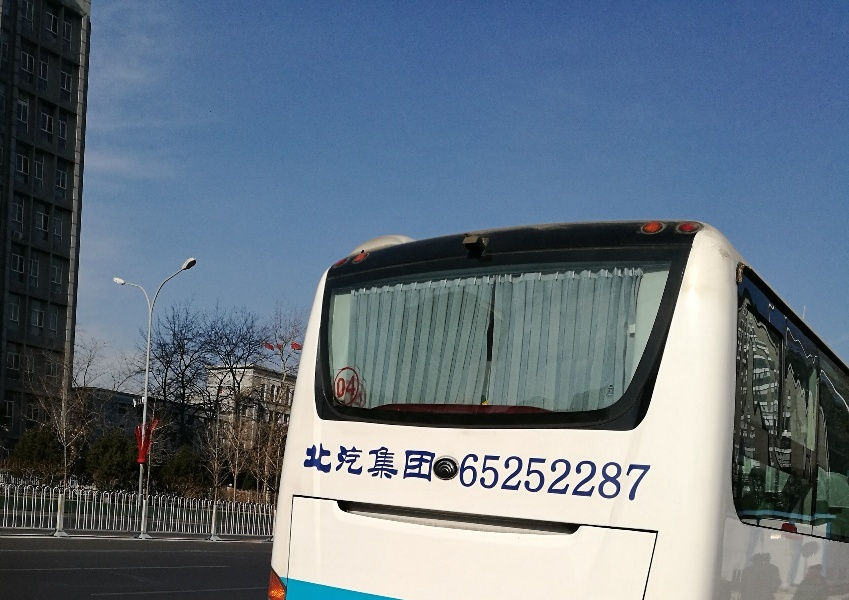text: (465, 452, 480, 504), (481, 452, 496, 504), (497, 452, 512, 504), (513, 452, 528, 504), (529, 452, 544, 504), (545, 452, 560, 504), (561, 452, 576, 504), (577, 452, 592, 504), (593, 452, 608, 504), (609, 452, 624, 504), (625, 452, 640, 504), (321, 440, 336, 483), (337, 440, 352, 483), (353, 440, 368, 483), (369, 440, 384, 483), (385, 440, 400, 483), (401, 440, 416, 483), (417, 440, 432, 483), (641, 452, 653, 504), (306, 440, 320, 483), (337, 376, 352, 399), (433, 440, 437, 483), (461, 452, 464, 504), (353, 376, 359, 399), (335, 376, 336, 399)
